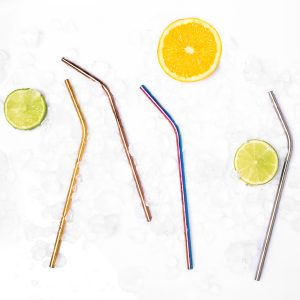Drinking Straw: (138, 84, 196, 272)
